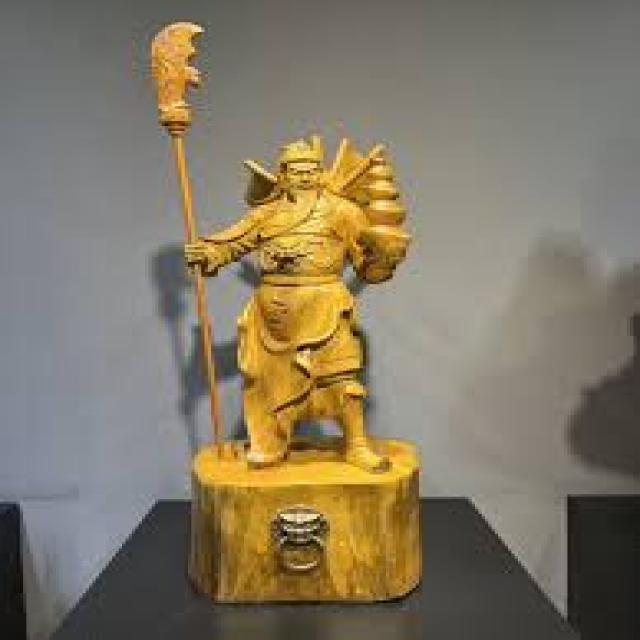Guan Yu: (201, 132, 411, 426)
